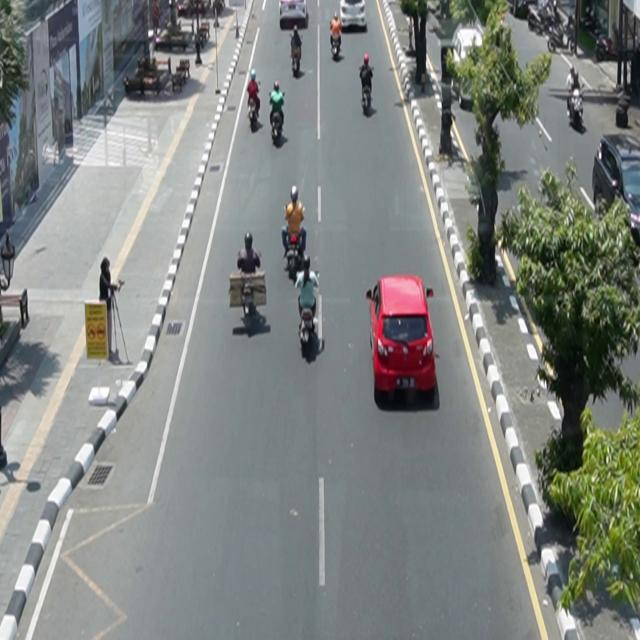car: (366, 275, 438, 401), (593, 133, 640, 246), (279, 1, 309, 29), (341, 1, 368, 31)
